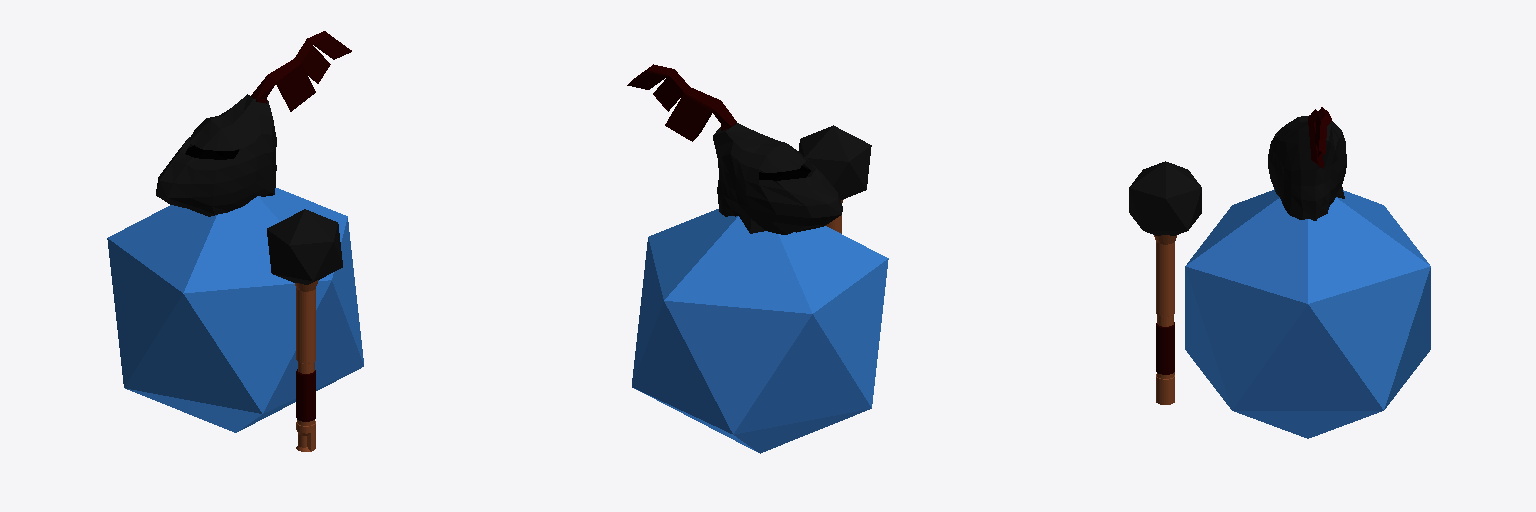
The model's file is Knight.obj.
The picture shows the model from 3 angles: view 1: azimuth 30°, elevation 25°; view 2: azimuth 150°, elevation 25°; view 3: azimuth 270°, elevation 25°; orthographic projection.
Parts seen in each view (by area): view 1: Icosphere.002, Cube.001, Icosphere.003, Cylinder, Cube.002; view 2: Icosphere.002, Cube.001, Cube.002, Icosphere.003; view 3: Icosphere.002, Cube.001, Icosphere.003, Cylinder, Cube.002.
Part boxes in pixels (left/top/right/bottom): Icosphere.002: left=107, top=188, right=363, bottom=432; Cube.001: left=156, top=94, right=276, bottom=216; Icosphere.003: left=267, top=209, right=342, bottom=284; Cylinder: left=295, top=280, right=318, bottom=451; Cube.002: left=251, top=31, right=351, bottom=111; Icosphere.002: left=632, top=209, right=888, bottom=453; Cube.001: left=713, top=123, right=842, bottom=234; Cube.002: left=627, top=64, right=736, bottom=141; Icosphere.003: left=799, top=125, right=871, bottom=199; Icosphere.002: left=1185, top=189, right=1430, bottom=438; Cube.001: left=1268, top=115, right=1346, bottom=220; Icosphere.003: left=1129, top=161, right=1201, bottom=235; Cylinder: left=1154, top=235, right=1176, bottom=404; Cube.002: left=1308, top=107, right=1331, bottom=168.
Bounding box in the file's own units: 1.89 × 2.84 × 2.09.